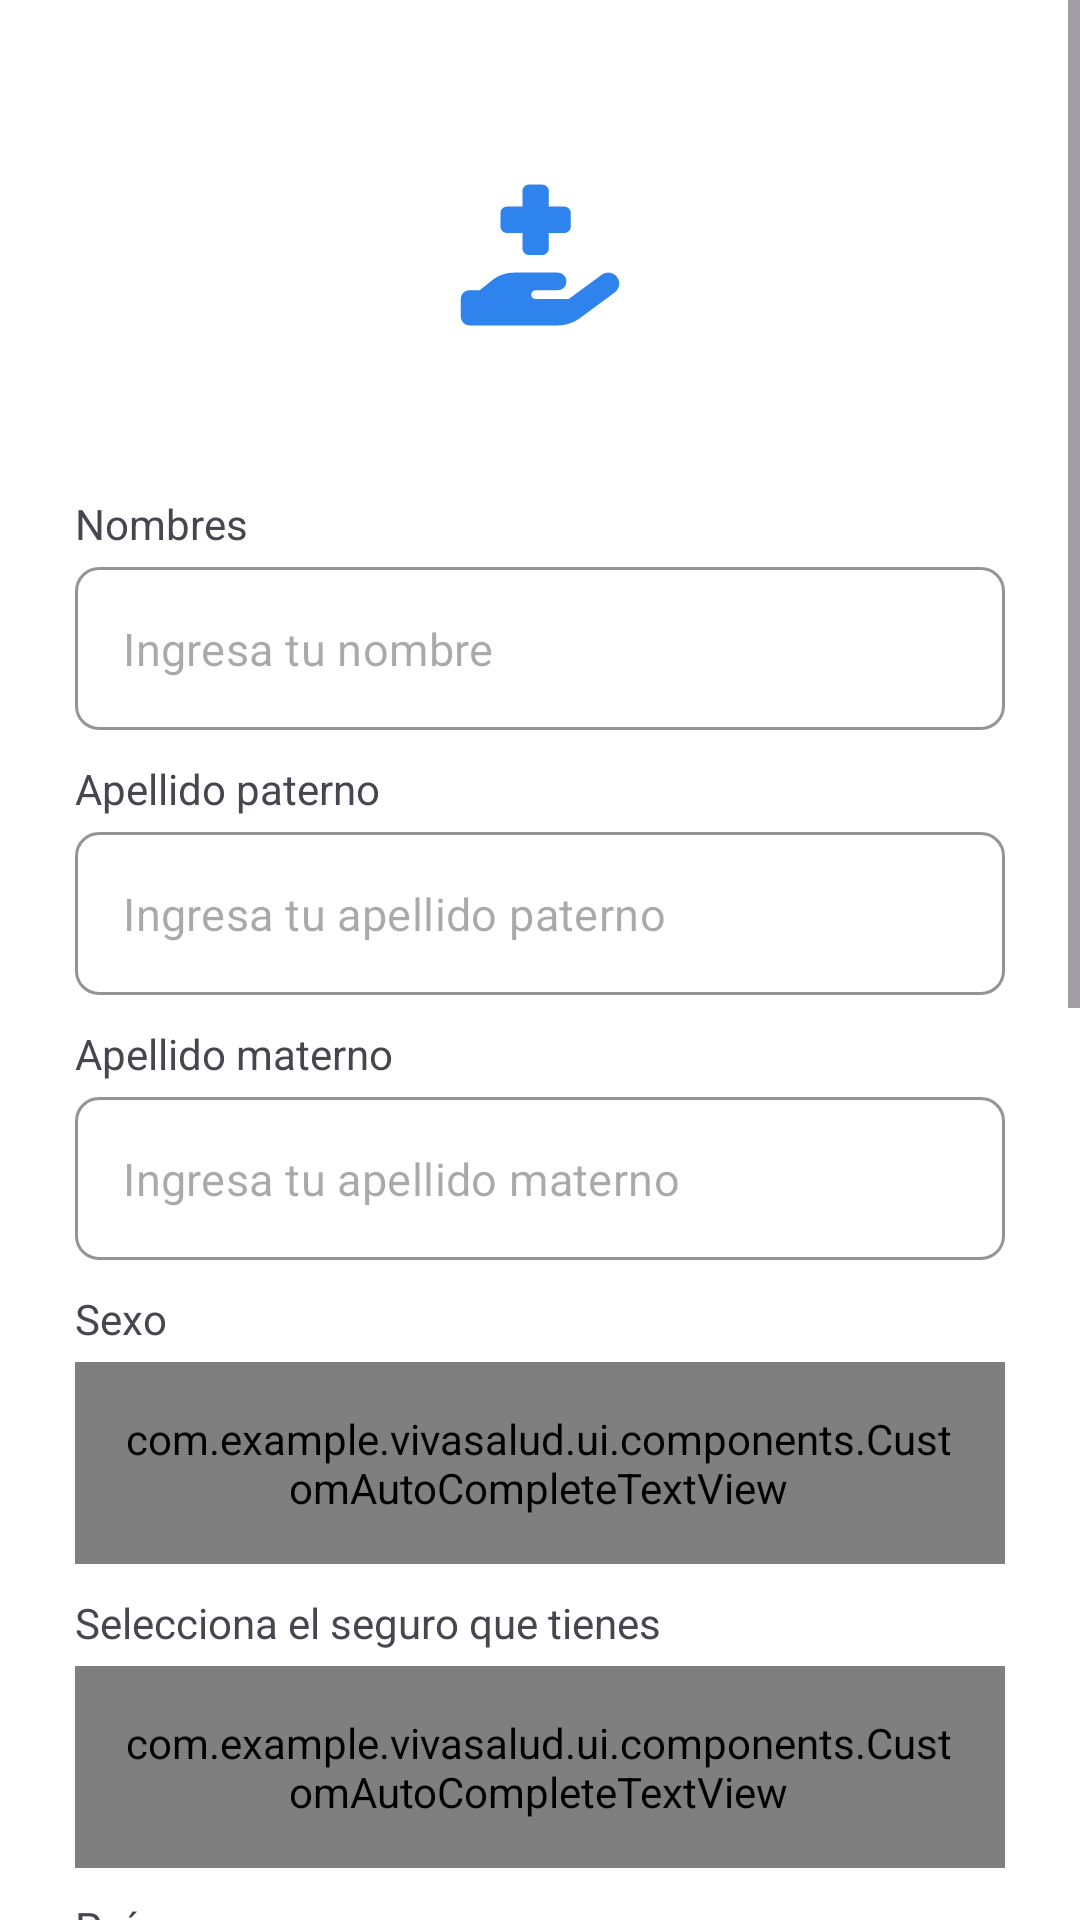

Icons on this 1080*1920 Android screen, each with its box as bbox=[x1, y1, x2, y2]:
Icono Viva Salud: bbox=[460, 184, 620, 326]
